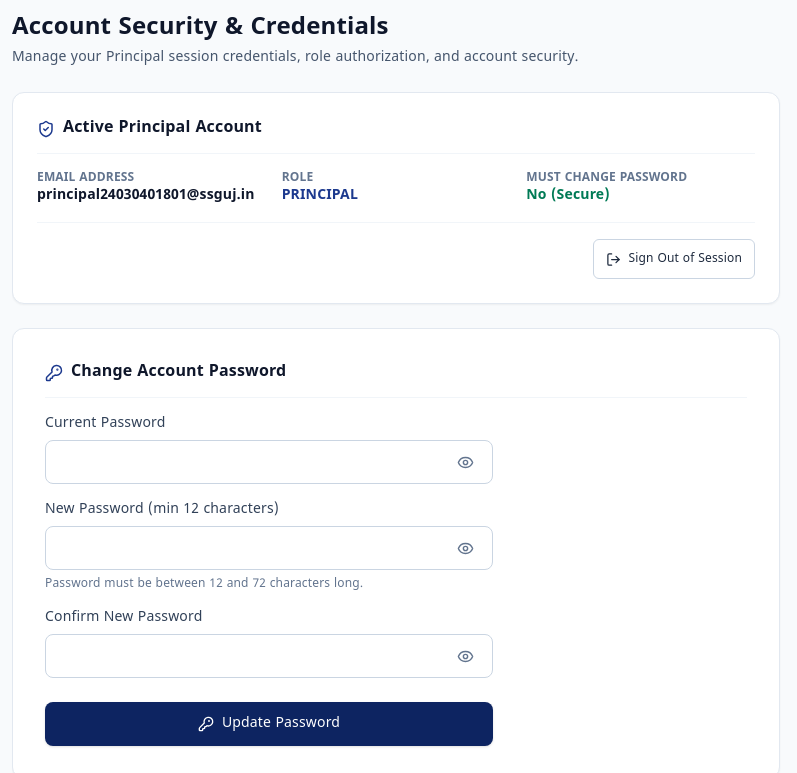
it: AdminAccountPage › validates minimum 12 characters for new password
Step 1. Type "oldpassword123" into the password field labelled "Current Password" → (269,462), box left=45, top=440, right=493, bottom=484
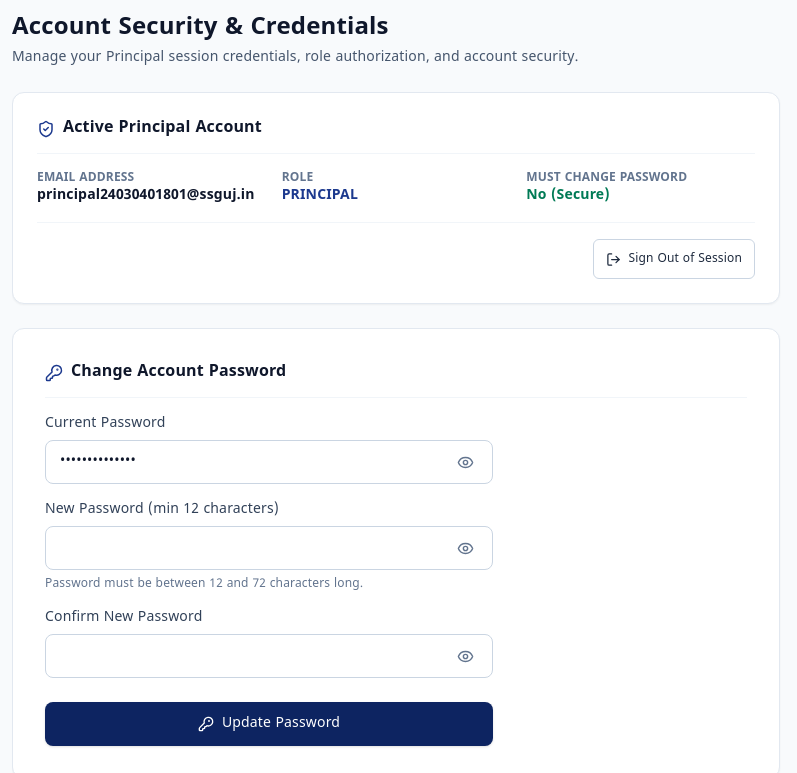
Step 2. Type "short" into the password field labelled "New Password (min 12 characters)" → (269,548), box left=45, top=526, right=493, bottom=570
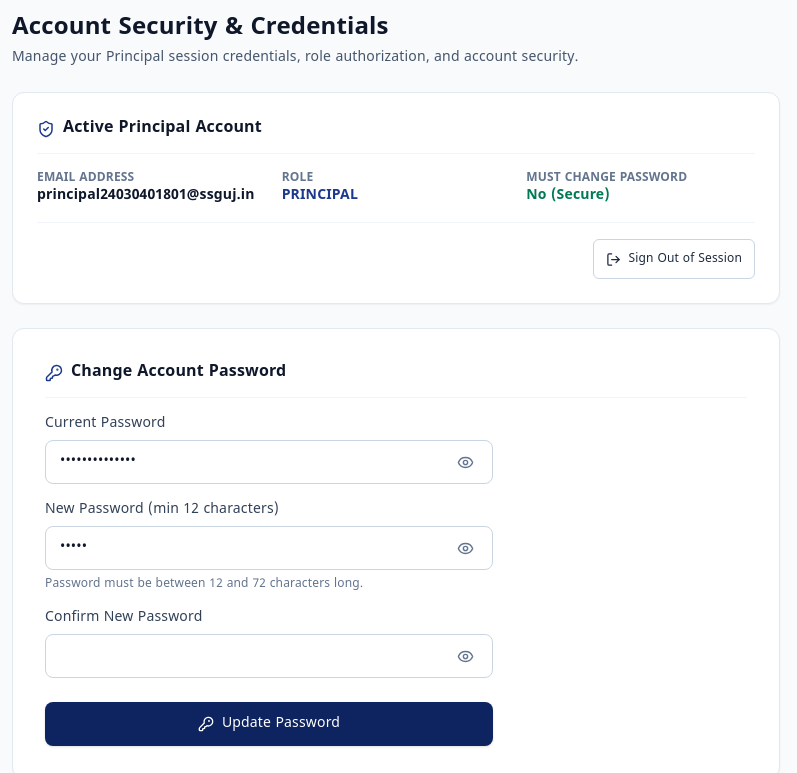
Step 3. Type "short" into the password field labelled "Confirm New Password" → (269,656), box left=45, top=634, right=493, bottom=678
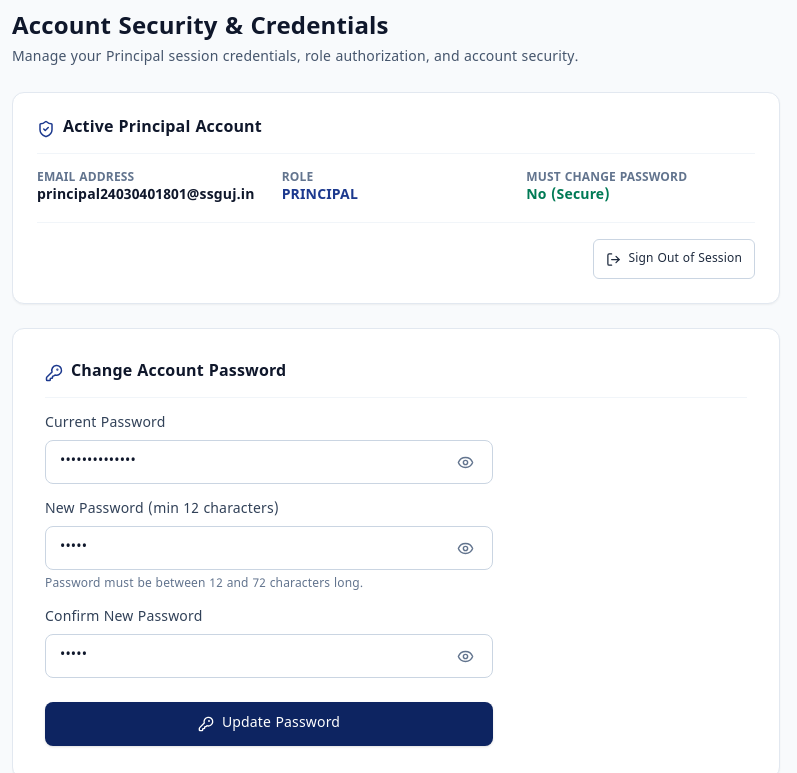
Step 4. Click the button "Update Password" → (269,724), box left=45, top=702, right=493, bottom=746
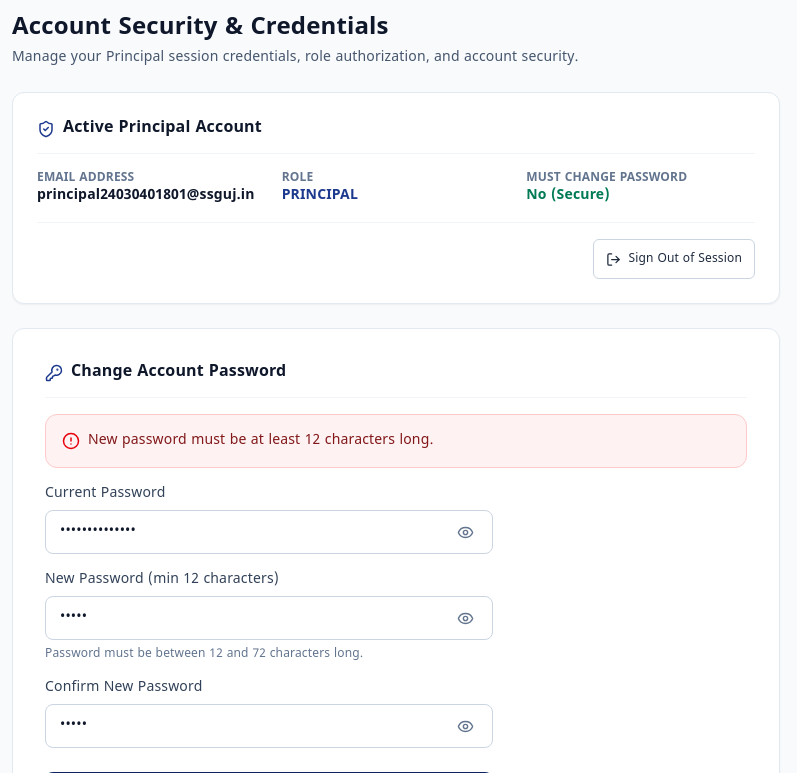
Check: the text "New password must be at least 12 characters long." is shown, box left=88, top=431, right=433, bottom=451
